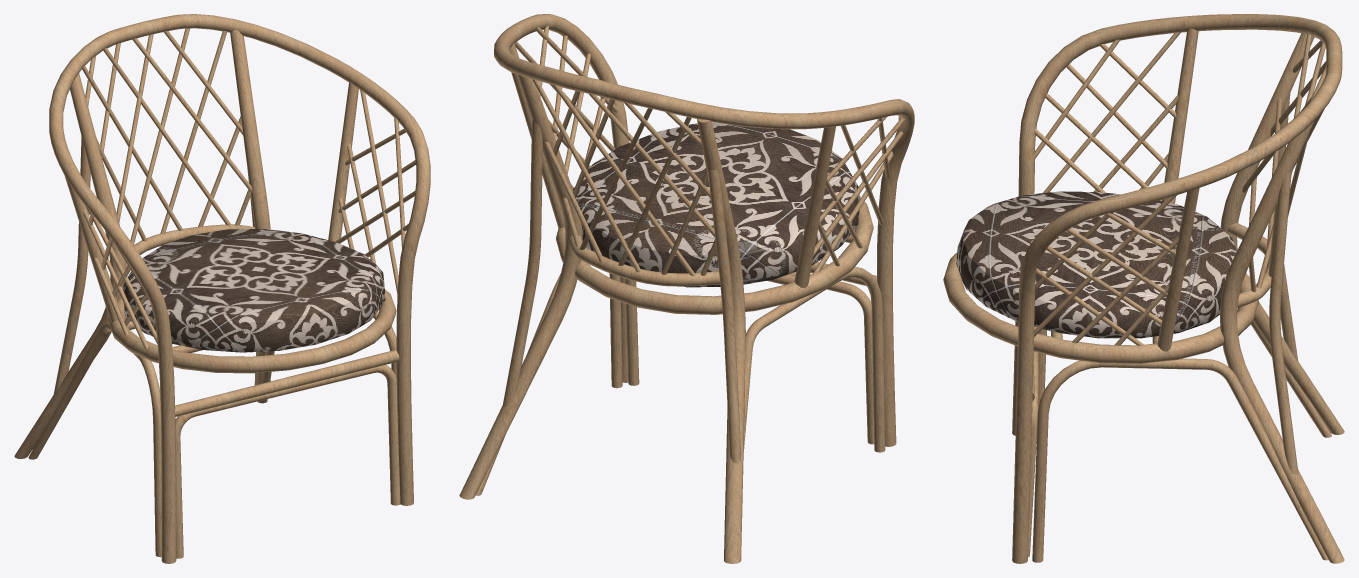
File: Armchair.glb
The picture shows the model from 3 angles, left to right: view 1: azimuth 30°, elevation 25°; view 2: azimuth 150°, elevation 25°; view 3: azimuth 270°, elevation 25°; orthographic projection. The views are drawn at different scales.
Parts seen in each view (by area): view 1: OBJ, OBJ.001; view 2: OBJ, OBJ.001; view 3: OBJ, OBJ.001.
Boxes of the visible parts, x1,y1,x2,y2 form: OBJ: [14, 14, 430, 563]; OBJ.001: [123, 229, 385, 352]; OBJ: [459, 14, 914, 563]; OBJ.001: [573, 122, 859, 287]; OBJ: [943, 14, 1344, 563]; OBJ.001: [956, 191, 1236, 338].
Bounding box in the file's own units: 1.88 × 2.2 × 1.8.
Materials: 2 (2 with a texture image).
